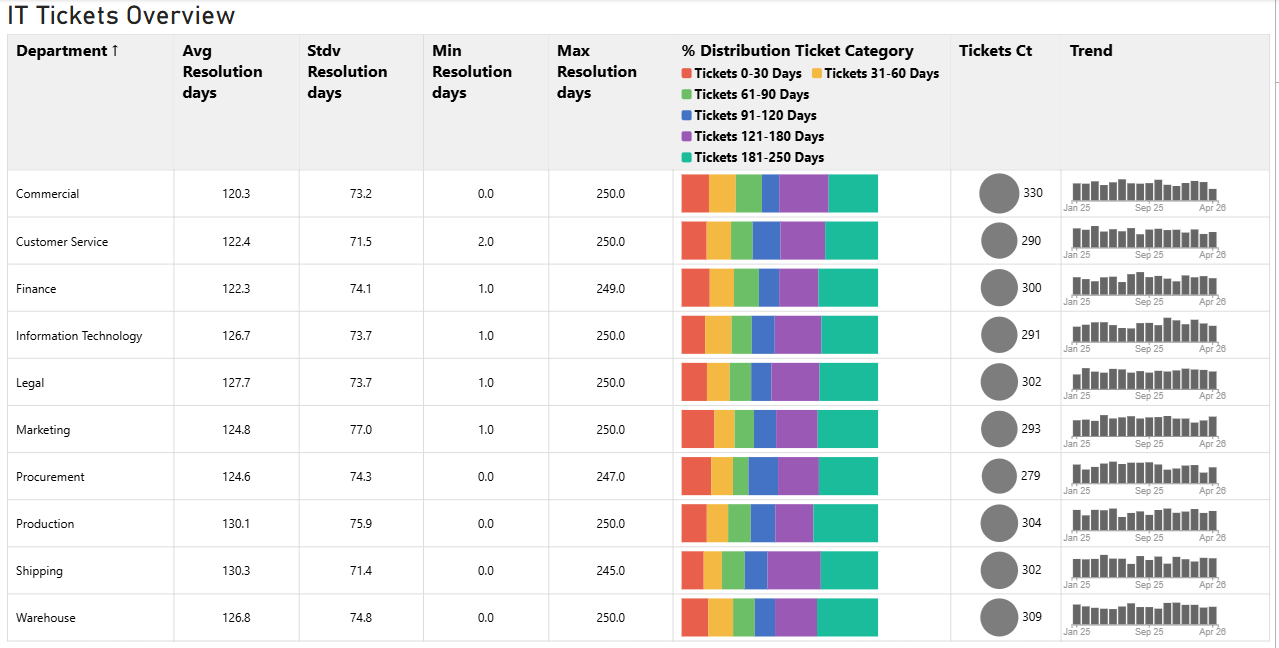

The page's visual inventory and layout, read from the dashboard file:
{"tool":"powerbi","page":{"name":"Sample","canvas":[1280,720],"ordinal":0},"visuals":[{"type":"sparklineTable25562EEF33904BDB9E569D3FCA395335","title":"IT Tickets Overview","fields":{"category":["Ticket Data.Department"],"metricValues":["Ticket Data.Avg Resolution days","Ticket Data.Stdv Resolution days","Ticket Data.Min Resolution days","Ticket Data.Max Resolution days"],"stackedValues":["Ticket Data.Tickets 0-30 Days","Ticket Data.Tickets 31-60 Days","Ticket Data.Tickets 61-90 Days","Ticket Data.Tickets 91-120 Days","Ticket Data.Tickets 121-180 Days","Ticket Data.Tickets 181-250 Days"],"bubbleValues":["CountNonNull(Ticket Data.Ticket Number)"],"sparklineValues":["Ticket Data.Avg Resolution days"],"sparklineAxis":["Ticket Data.Ticket Month"]},"box":[9.9,0,1269.9,720],"z":0}]}

Visuals, with their boxes on the page's 1280x720 design canvas (x1, y1, x2, y2). These are canvas units, not pixel positions in the 1279x648 screenshot, which may show the page scaled, cropped or inside an application window:
"IT Tickets Overview" sparklineTable25562EEF33904BDB9E569D3FCA395335: <bbox>10, 0, 1280, 720</bbox>
